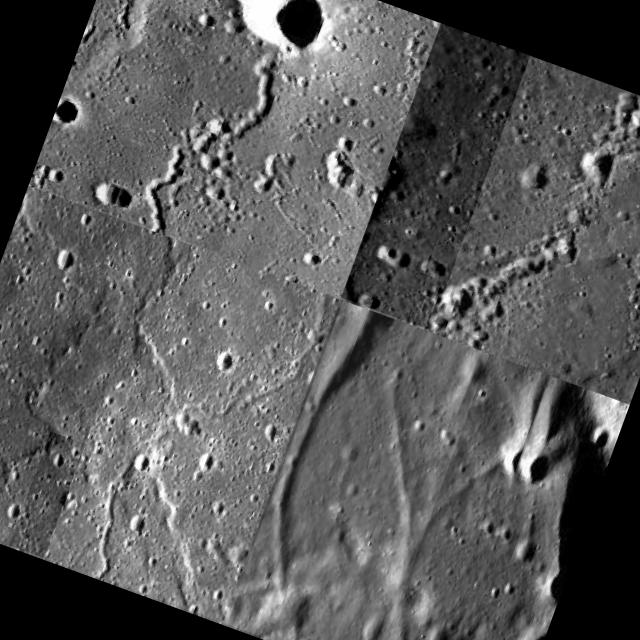rille: (44, 235, 338, 622), (225, 300, 489, 640), (29, 0, 291, 253), (341, 23, 530, 330), (10, 431, 148, 581)
